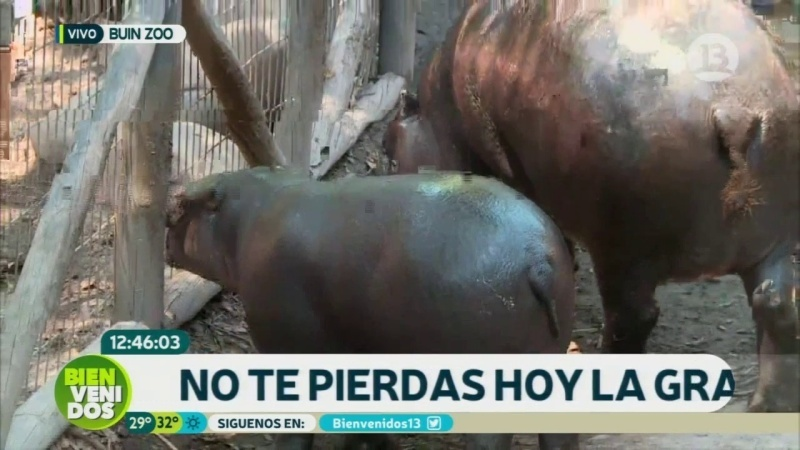hipopotamo: (383, 1, 800, 354), (155, 158, 593, 354)
